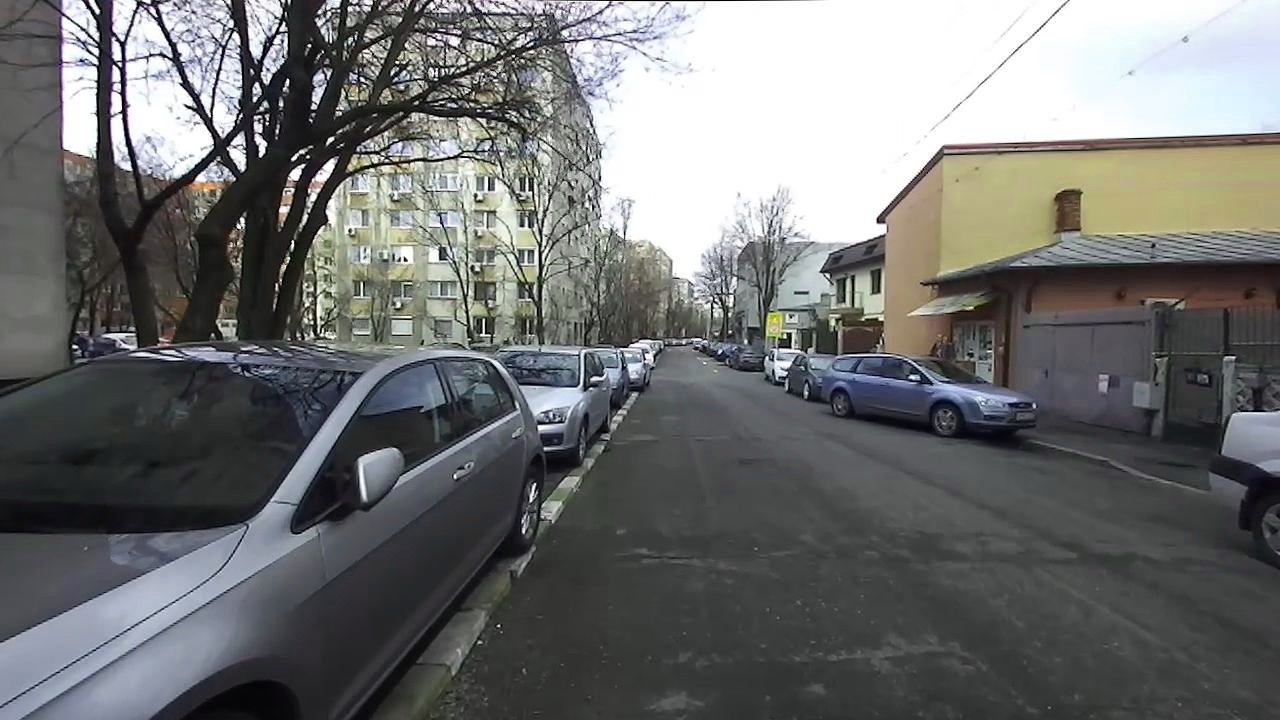pothole: (621, 543, 724, 570)
